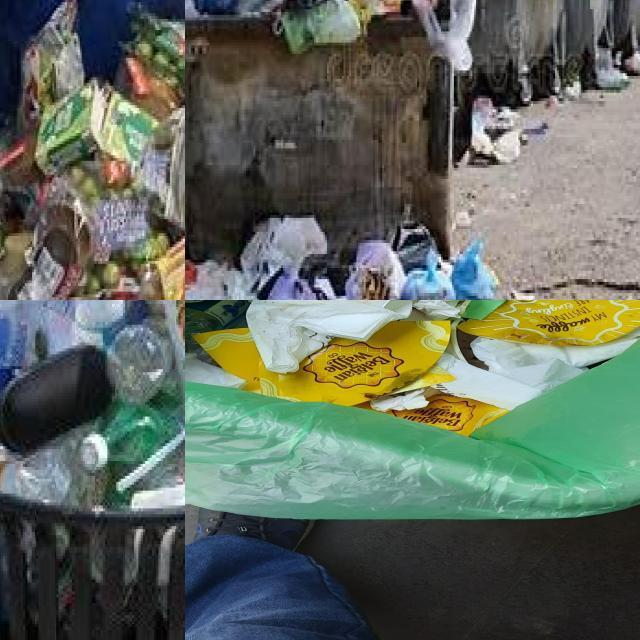Garbage: (185, 300, 640, 434), (0, 0, 185, 300), (0, 300, 185, 512)
Plastic_Bag: (411, 0, 477, 71), (282, 0, 361, 54), (93, 196, 150, 263), (307, 0, 361, 46), (165, 106, 185, 228), (196, 0, 237, 14)
Plastic_bottle: (79, 376, 183, 473), (108, 325, 169, 403), (0, 448, 72, 503), (185, 300, 247, 348), (0, 300, 31, 394), (76, 300, 125, 330)
Plastic_wraper: (463, 300, 506, 319)
